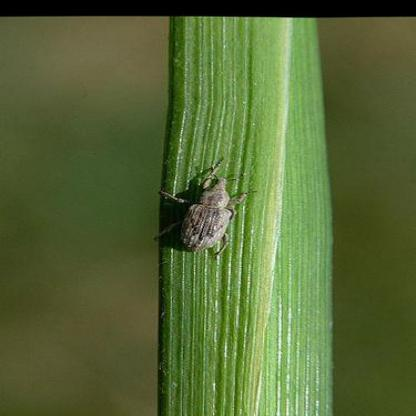rice-bug: (161, 164, 251, 256)
